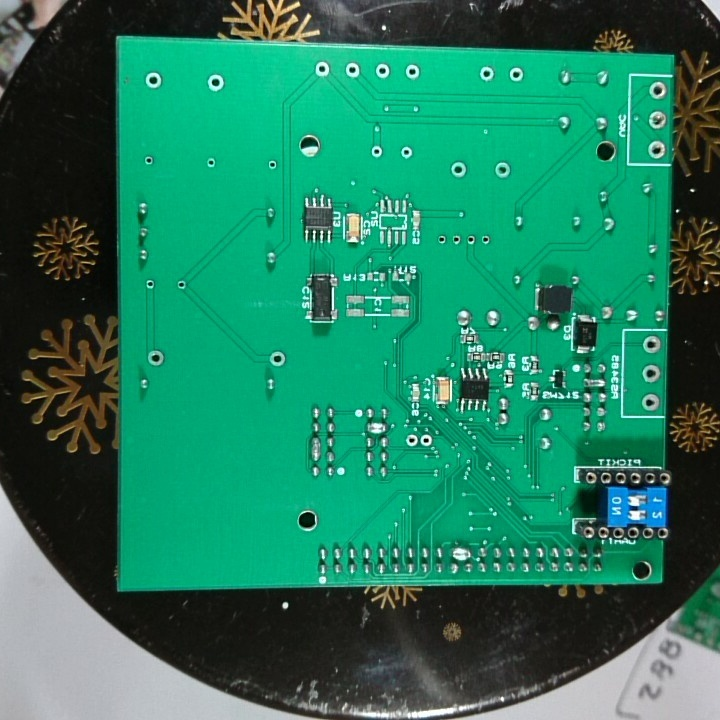F: (639, 362, 664, 386), (640, 333, 662, 358), (639, 391, 662, 414), (205, 72, 228, 95), (646, 109, 668, 133), (144, 348, 168, 370), (492, 158, 513, 182), (647, 137, 667, 162), (449, 160, 470, 183), (144, 69, 165, 91), (477, 63, 496, 86), (648, 80, 668, 101), (268, 348, 288, 369), (313, 58, 332, 80), (343, 59, 362, 80), (373, 63, 394, 80), (403, 62, 420, 83), (508, 65, 525, 86), (397, 144, 415, 163), (368, 142, 384, 160), (419, 433, 434, 450), (404, 432, 419, 449), (142, 152, 157, 169), (204, 155, 218, 172), (265, 158, 279, 173), (143, 278, 159, 291), (479, 231, 491, 248), (436, 233, 449, 248), (450, 233, 462, 249), (465, 231, 476, 248), (174, 279, 188, 292)
P: (579, 375, 609, 392), (448, 545, 474, 564), (362, 420, 388, 438), (308, 435, 323, 463)
